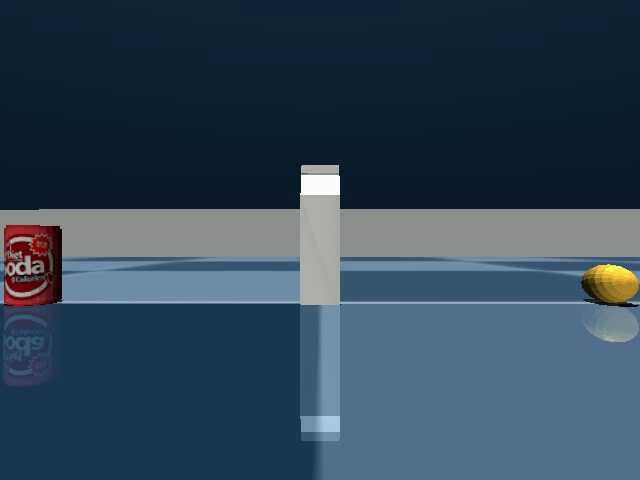can: (1, 218, 69, 313)
lemon: (574, 260, 640, 310)
milk: (292, 156, 349, 314)
